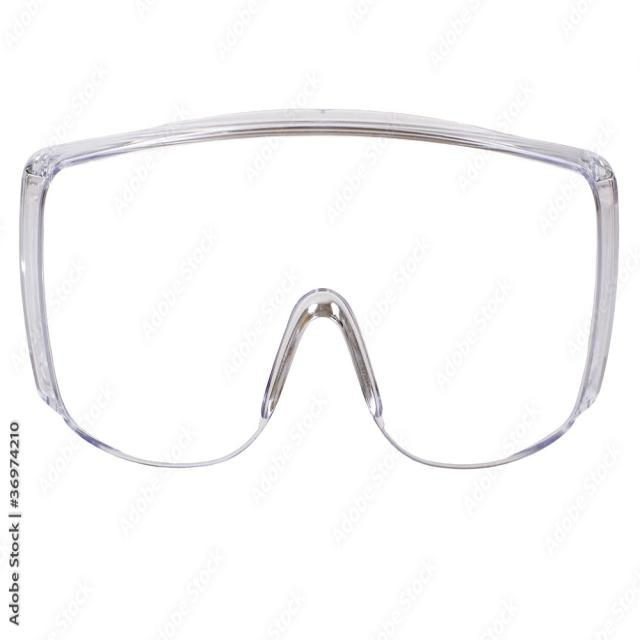Goggles: (18, 87, 624, 489)
